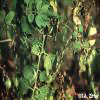Tomato Septoria leaf spot: (30, 35, 44, 57), (18, 37, 33, 56), (43, 54, 53, 77), (22, 65, 36, 81), (37, 84, 50, 99), (38, 70, 49, 83)
